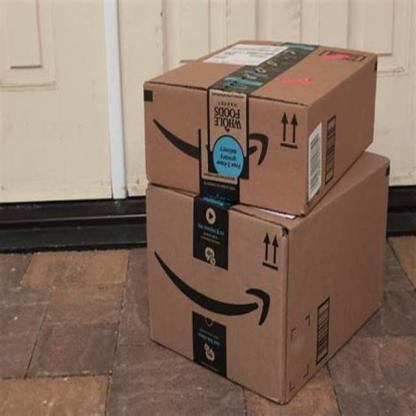package: (145, 124, 392, 410), (142, 39, 378, 219)
